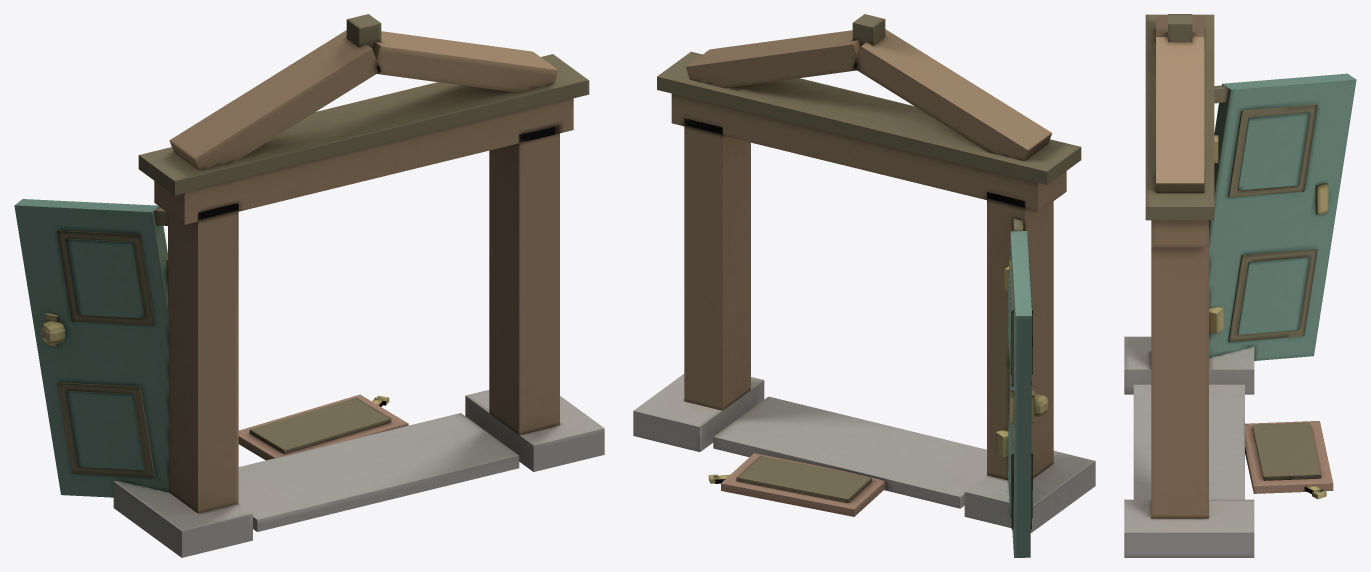
The model's file is doorframe.glb.
3 renders of one model, left to right at view 1: azimuth 30°, elevation 25°; view 2: azimuth 150°, elevation 25°; view 3: azimuth 270°, elevation 25°, orthographic. The views are drawn at different scales.
Parts seen in each view (by area): view 1: doorframe; view 2: doorframe; view 3: doorframe.
Part boxes in pixels (x1,y1,x2,y2): doorframe: (14,14,604,557); doorframe: (633,14,1095,557); doorframe: (1124,14,1356,557).
Size of the model in its own units: 5.59 by 5.24 by 2.5.
7 materials, 7 textured.
